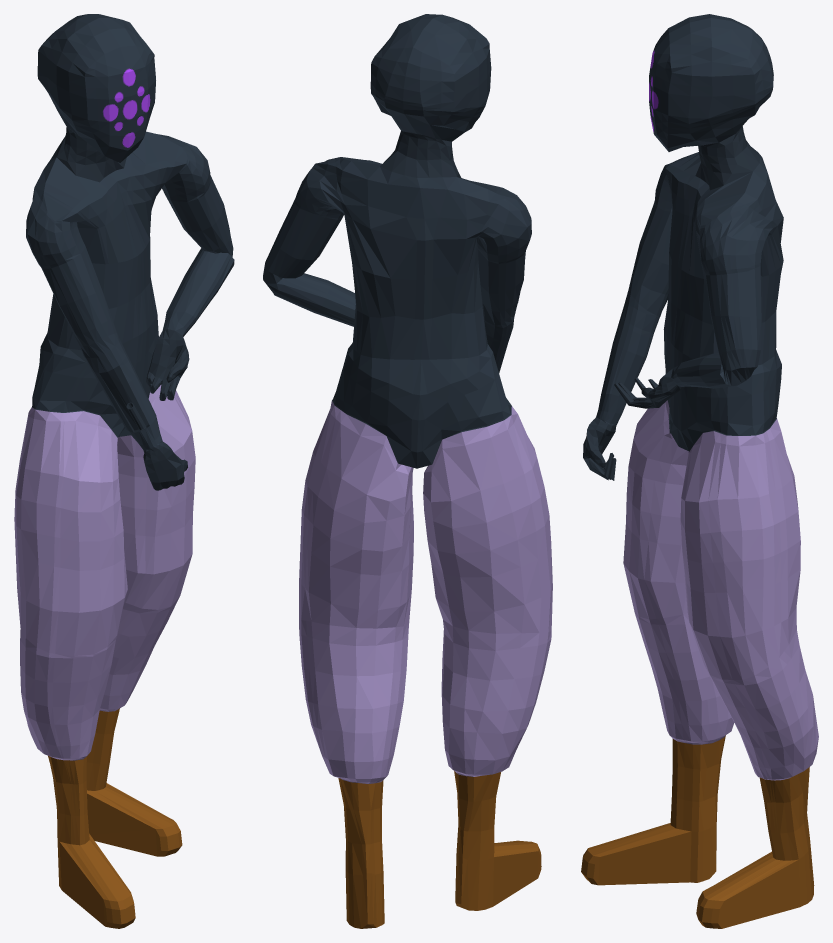
File: Oracle_WF_000027.obj
3 renders of one model, left to right at view 1: azimuth 30°, elevation 25°; view 2: azimuth 150°, elevation 25°; view 3: azimuth 270°, elevation 25°, orthographic. The views are drawn at different scales.
Parts seen in each view (by area): view 1: Cube; view 2: Cube; view 3: Cube.
Part boxes in pixels (x1,y1,x2,y2): Cube: (14, 14, 234, 928); Cube: (263, 14, 552, 928); Cube: (581, 14, 818, 928).
Size of the model in its own units: 1.15 by 3.94 by 0.9663.
